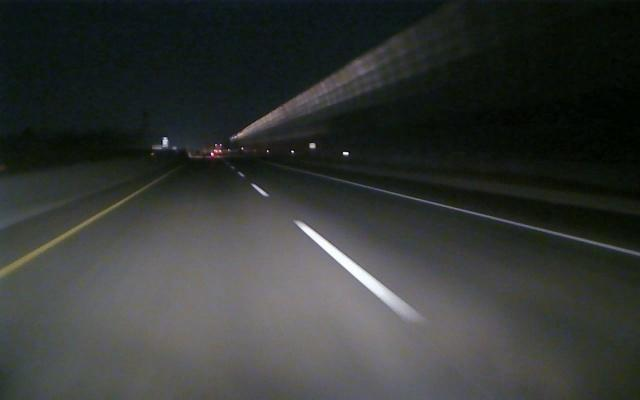lane: (326, 176, 638, 258), (251, 184, 433, 324), (1, 192, 135, 277)
